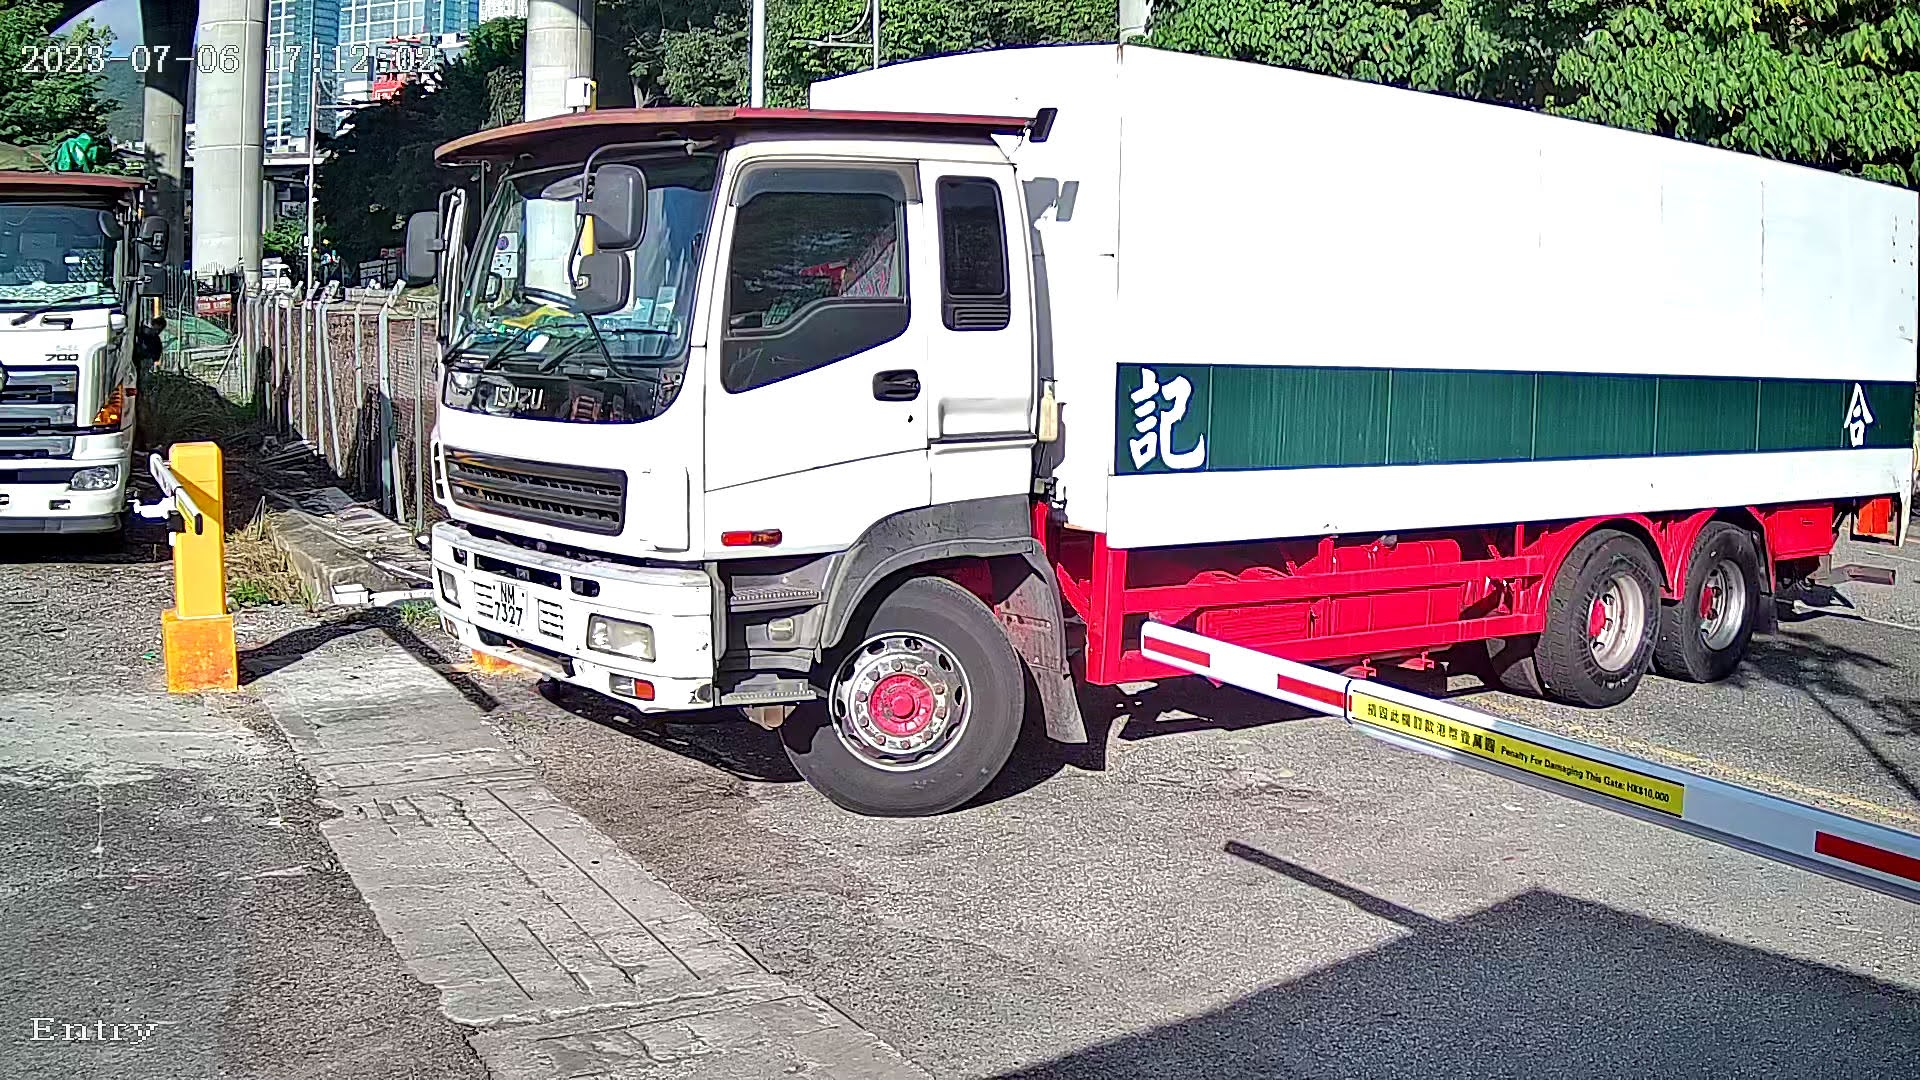truck_large: (377, 42, 1920, 843)
